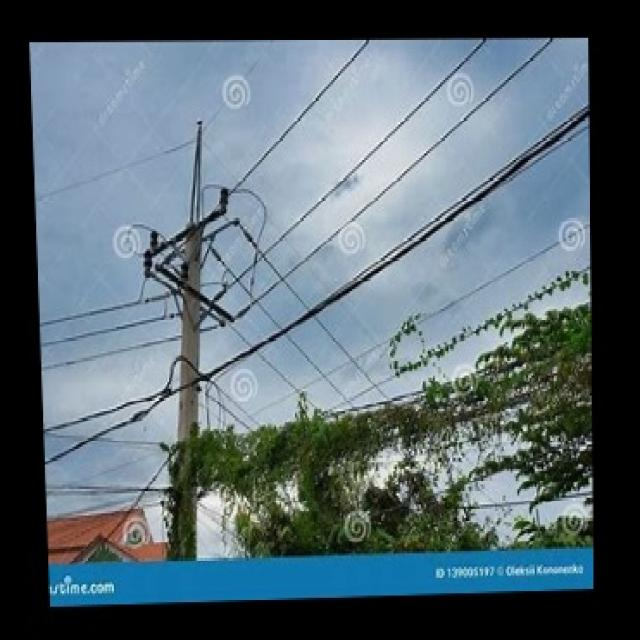critical vegetation: (166, 379, 592, 499)
